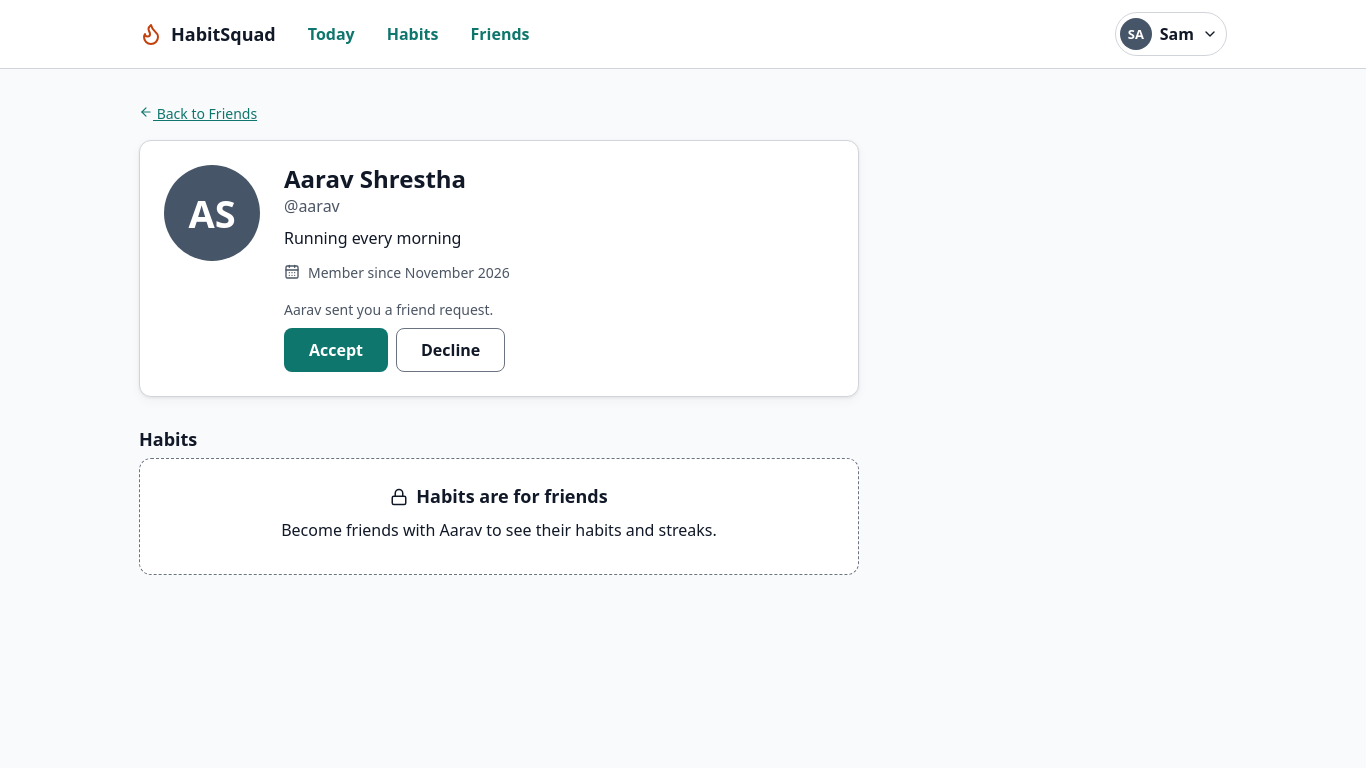
Test: PersonProfilePage › "Accept" makes you friends and shows their habits
Expected: the heading "Aarav Shrestha" is shown, 284,162 -> 466,195
Expected: the text "Aarav sent you a friend request." is shown, 284,300 -> 493,319
Click the button "Accept". click: (336,350)
box: 284,328 -> 388,372
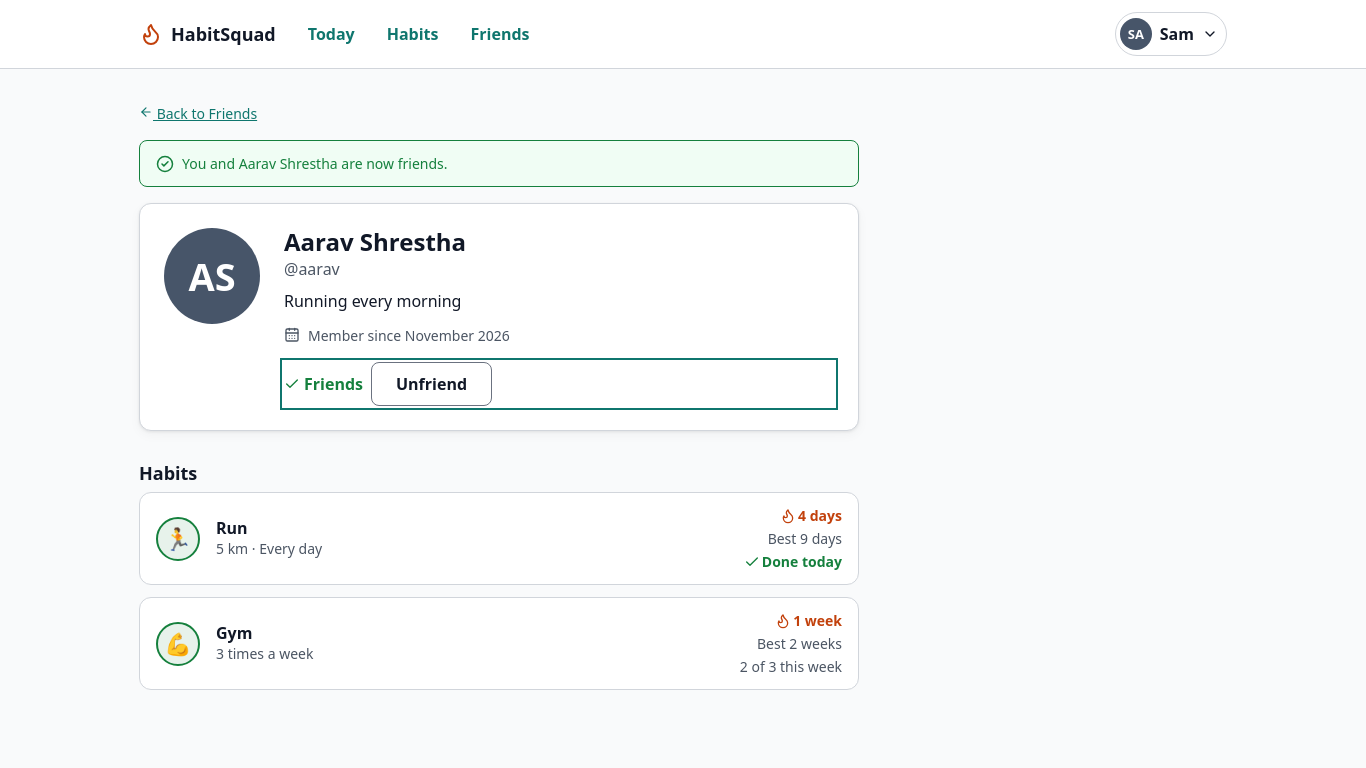
Expected: the text "You and Aarav Shrestha are now friends." is shown, 182,153 -> 448,174
Expected: the heading "Run" is shown, 216,517 -> 248,539
